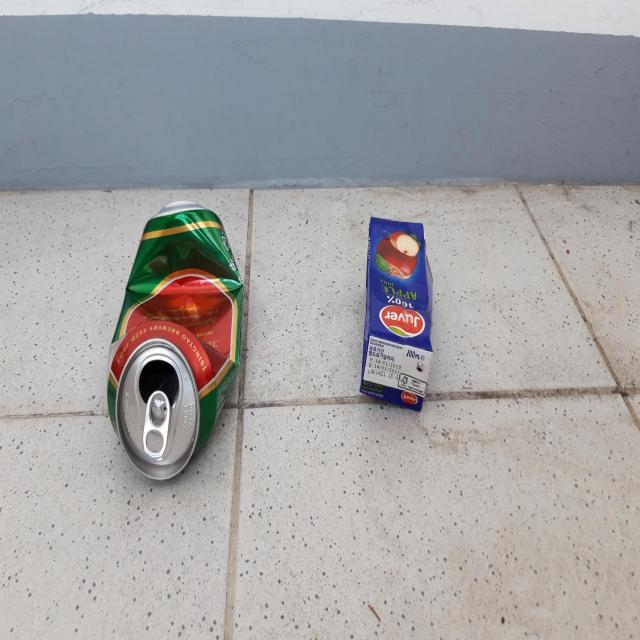can: (107, 199, 243, 480)
paperpack: (360, 216, 434, 411)
